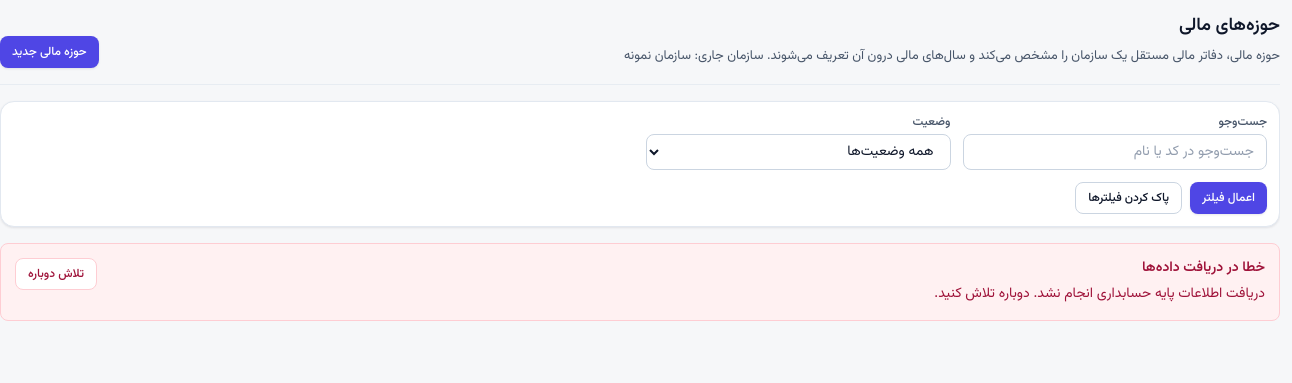
Financial areas administration list (ACC-01) › shows a normalized error with retry, and recovers on retry
Expected: the message is shown, 0,243 -> 1280,321
Click the button "تلاش دوباره". click: (56, 274)
box: 15,258 -> 97,290
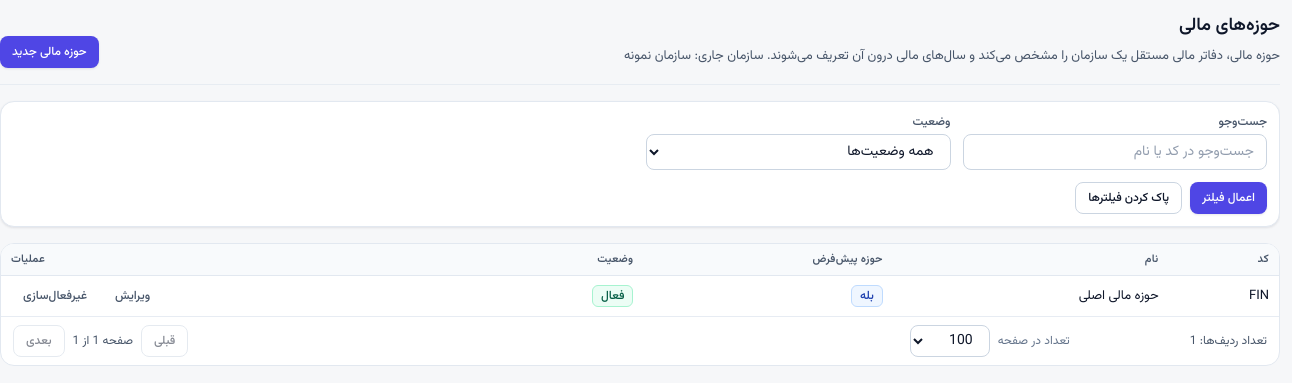
Expected: the text "حوزه مالی اصلی" is shown, 893,276 -> 1169,316
